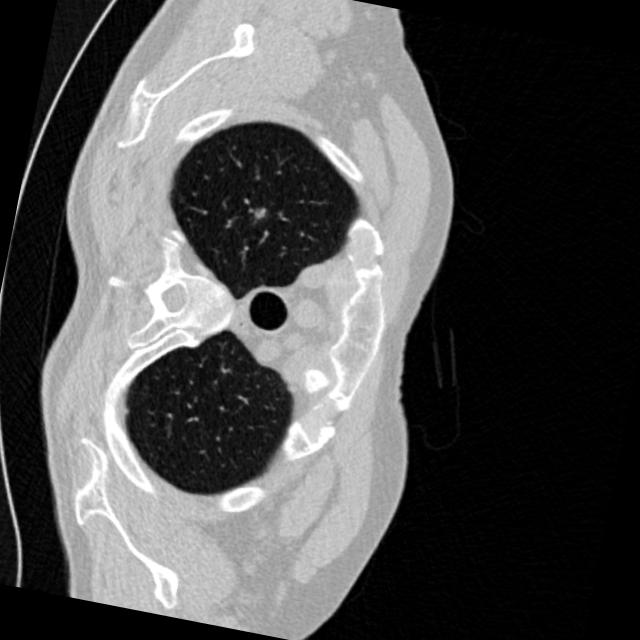nodule: (244, 195, 277, 228)
